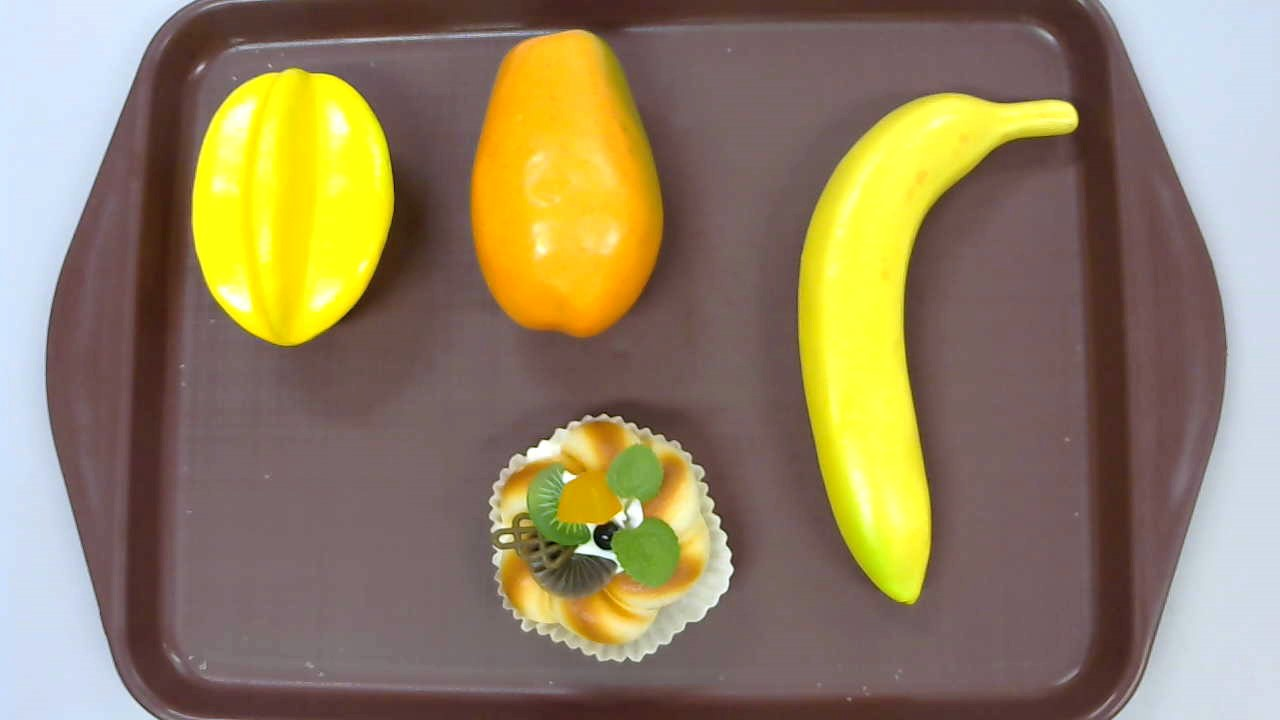banana: (797, 91, 1078, 607)
fruit tart: (488, 413, 736, 664)
papya: (468, 29, 664, 338)
star fruit: (191, 69, 394, 347)
